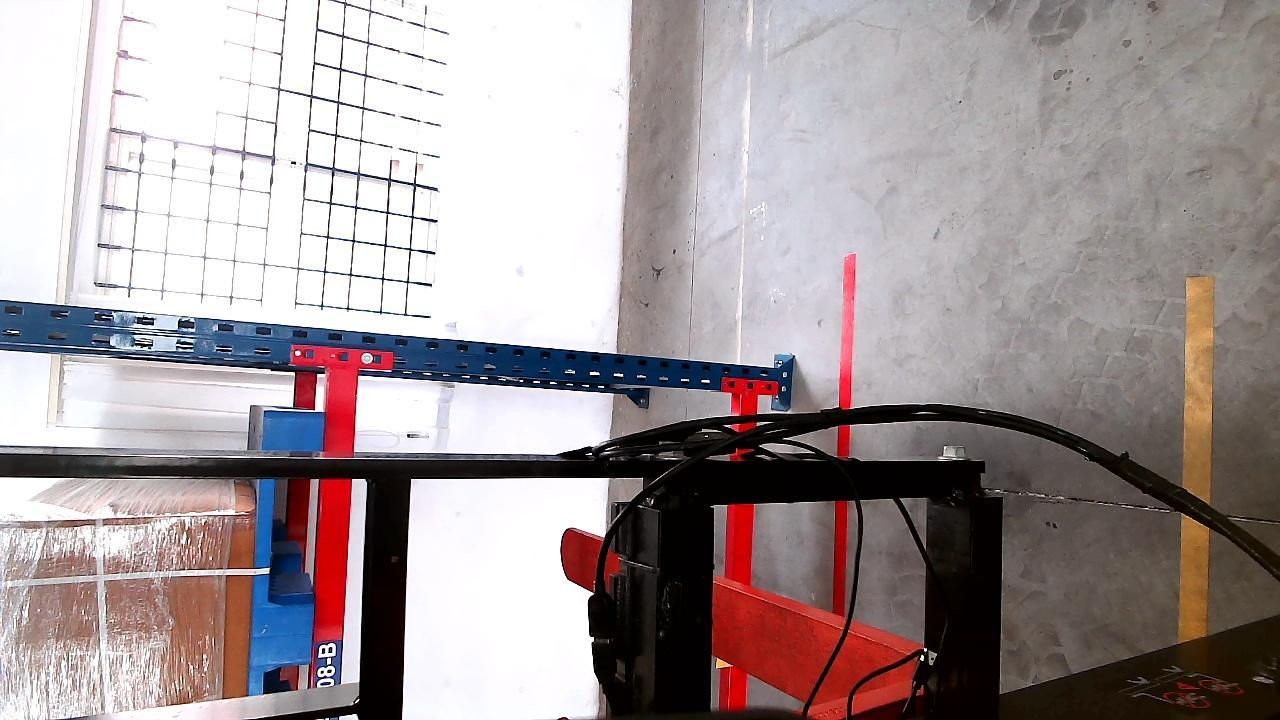red_line: (831, 252, 859, 613)
yellow_line: (1181, 266, 1215, 648)
